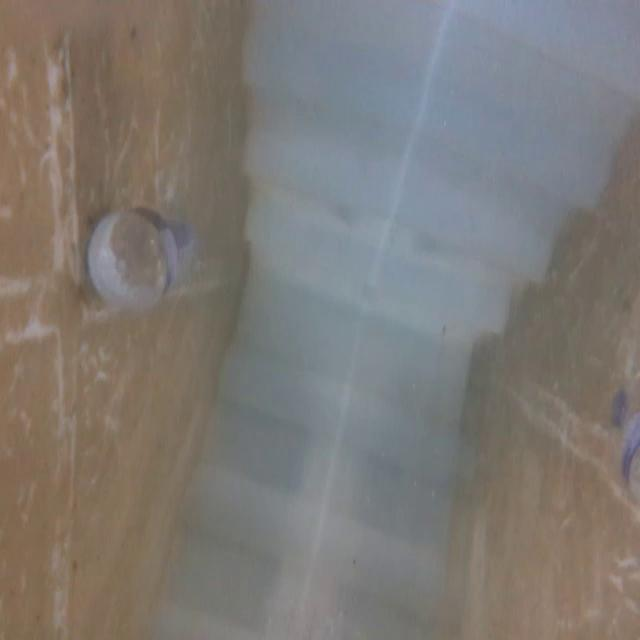plastic bottle: (58, 178, 206, 349), (598, 374, 640, 510)
